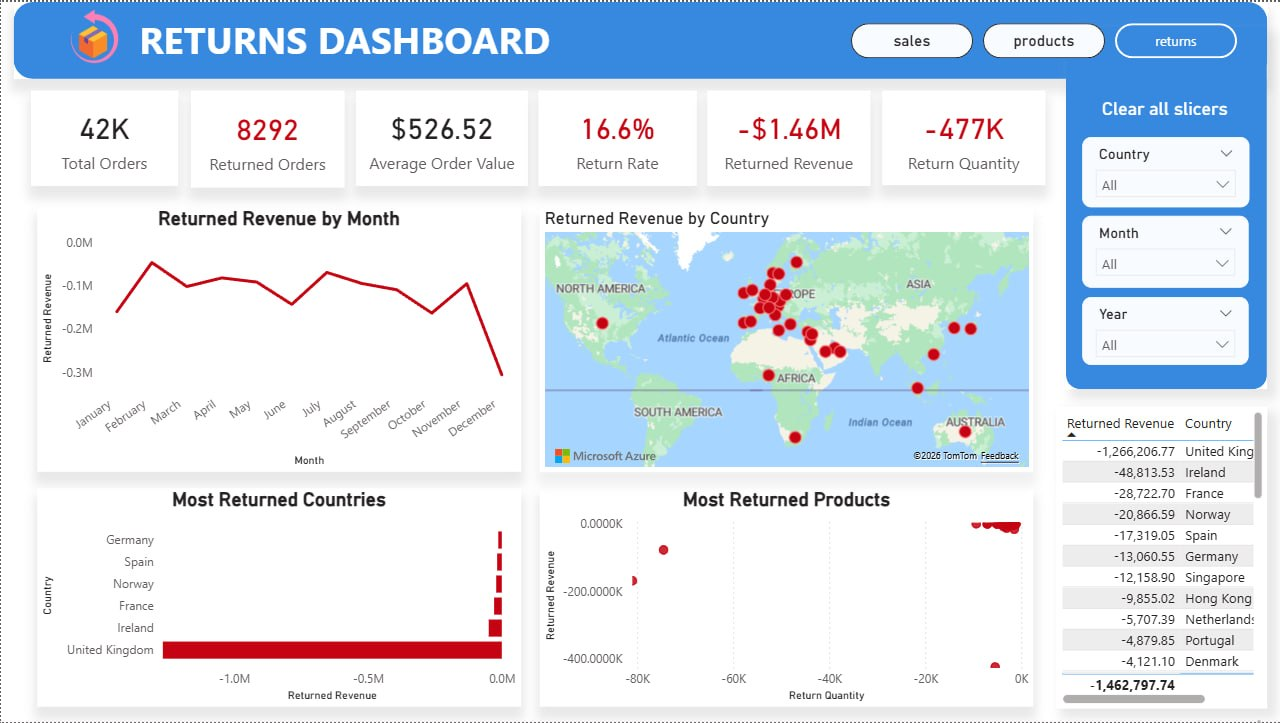

The page's visual inventory and layout, read from the dashboard file:
{"tool":"powerbi","page":{"name":"returns","canvas":[1280,720],"ordinal":2},"visuals":[{"type":"shape","box":[13,0,1254,77],"z":0},{"type":"shape","box":[1064.4,25.6,201.1,362.2],"z":1000},{"type":"lineChart","title":"Returned Revenue by Month","fields":{"Category":["Calendar.Month"],"Y":["NTI_canceled.Returned Revenue"]},"box":[36.2,205,483.8,265],"z":2000},{"type":"slicer","fields":{"Values":["Calendar.Year"]},"box":[1081.6,295.4,166.4,67.6],"z":2000,"group":"g2"},{"type":"slicer","fields":{"Values":["Calendar.Month"]},"box":[1081.6,213.9,166.4,72],"z":3000,"group":"g2"},{"type":"barChart","title":"Most Returned Countries","fields":{"Category":["NTI_canceled.Country"],"Y":["NTI_canceled.Returned Revenue"]},"box":[36.2,486.2,483.8,218.8],"z":3000},{"type":"textbox","box":[36.7,7.5,615,62.5],"z":4000},{"type":"slicer","fields":{"Values":["NTI_cleaned.Country"]},"box":[1081,135,167,70.8],"z":4000,"group":"g2"},{"type":"group","id":"g1","title":"Group 1","box":[30.4,88.9,839.3,95.8],"z":5000},{"type":"card","fields":{"Values":["NTI_cleaned.Total Orders"]},"box":[30.4,89.4,147.4,95.3],"z":5000,"group":"g1"},{"type":"actionButton","box":[1090,86.7,147.8,40],"z":6000},{"type":"card","fields":{"Values":["NTI_cleaned.Average Order Value"]},"box":[355.9,88.9,172.1,95],"z":7000,"group":"g1"},{"type":"group","id":"g2","title":"Group 2","box":[1081,135,167,228],"z":7000},{"type":"card","fields":{"Values":["NTI_canceled.Return Rate"]},"box":[538.5,88.9,158.2,95],"z":8000,"group":"g1"},{"type":"card","fields":{"Values":["NTI_canceled.Return Quantity"]},"box":[881.1,88.9,163.3,94.4],"z":8000},{"type":"pageNavigator","box":[850,21.7,386.7,35],"z":9000},{"type":"card","fields":{"Values":["NTI_canceled.Returned Revenue"]},"box":[706.3,88.9,163.4,95],"z":9000,"group":"g1"},{"type":"tableEx","fields":{"Values":["NTI_canceled.Returned Revenue","NTI_canceled.Country"]},"box":[1055.4,405.4,211.5,301.5],"z":10000},{"type":"card","fields":{"Values":["NTI_canceled.Returned Orders"]},"box":[190.4,88.9,153.3,96.7],"z":11000},{"type":"scatterChart","title":"Most Returned Products","fields":{"Category":["NTI_canceled.Description"],"X":["NTI_canceled.Return Quantity"],"Y":["NTI_canceled.Returned Revenue"]},"box":[538.8,486.2,493.8,218.8],"z":12000},{"type":"azureMap","fields":{"Category":["NTI_canceled.Country"]},"box":[538.8,206.2,493.8,263.8],"z":13000},{"type":"image","box":[61.7,7.5,65,53.3],"z":14000}]}

Visuals, with their boxes in screenshot pixels (x1, y1, x2, y2), scaled from the page's 1280x720 canvas onto the 1280x723 screenshot:
shape: [13, 0, 1267, 77]
shape: [1064, 26, 1266, 389]
"Returned Revenue by Month" lineChart: [36, 206, 520, 472]
slicer - Calendar.Year: [1082, 297, 1248, 365]
slicer - Calendar.Month: [1082, 215, 1248, 287]
"Most Returned Countries" barChart: [36, 488, 520, 708]
textbox: [37, 8, 652, 70]
slicer - NTI_cleaned.Country: [1081, 136, 1248, 207]
"Group 1" group: [30, 89, 870, 185]
card - NTI_cleaned.Total Orders: [30, 90, 178, 185]
actionButton: [1090, 87, 1238, 127]
card - NTI_cleaned.Average Order Value: [356, 89, 528, 185]
"Group 2" group: [1081, 136, 1248, 365]
card - NTI_canceled.Return Rate: [538, 89, 697, 185]
card - NTI_canceled.Return Quantity: [881, 89, 1044, 184]
pageNavigator: [850, 22, 1237, 57]
card - NTI_canceled.Returned Revenue: [706, 89, 870, 185]
tableEx - NTI_canceled.Returned Revenue x NTI_canceled.Country: [1055, 407, 1267, 710]
card - NTI_canceled.Returned Orders: [190, 89, 344, 186]
"Most Returned Products" scatterChart: [539, 488, 1033, 708]
azureMap - NTI_canceled.Country: [539, 207, 1033, 472]
image: [62, 8, 127, 61]
